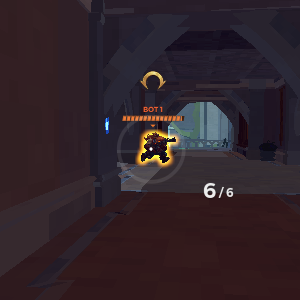model: (140, 128, 173, 170)
